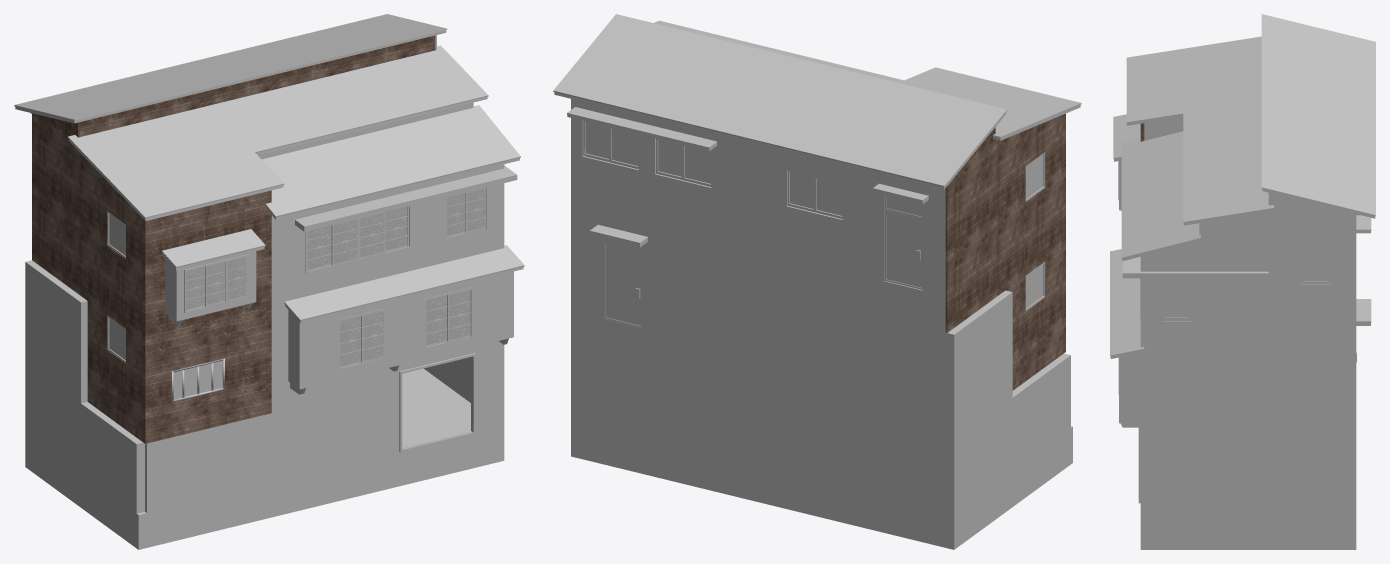
File: JpHouse_32a.fbx
3 renders of one model, left to right at view 1: azimuth 30°, elevation 25°; view 2: azimuth 150°, elevation 25°; view 3: azimuth 270°, elevation 25°, orthographic. The views are drawn at different scales.
Parts seen in each view (by area): view 1: JpHouse_22a; view 2: JpHouse_22a; view 3: JpHouse_22a.
Boxes of the visible parts, left/top/right/bottom form: JpHouse_22a: left=14, top=14, right=524, bottom=549; JpHouse_22a: left=553, top=14, right=1081, bottom=549; JpHouse_22a: left=1110, top=14, right=1375, bottom=549.
Size of the model in its own units: 11.22 by 11.04 by 7.27.
